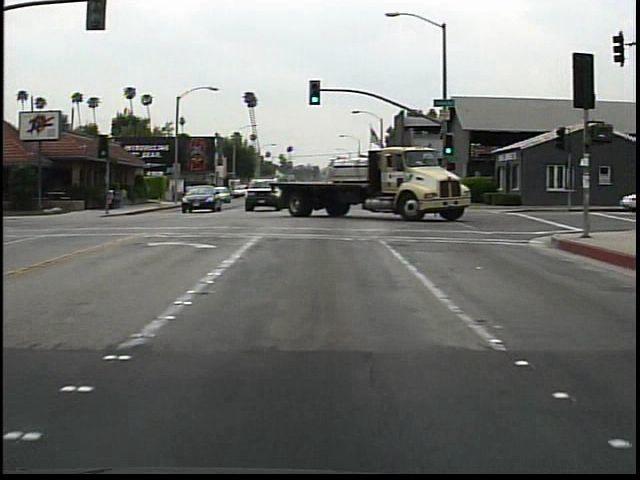person: (182, 182, 199, 206)
